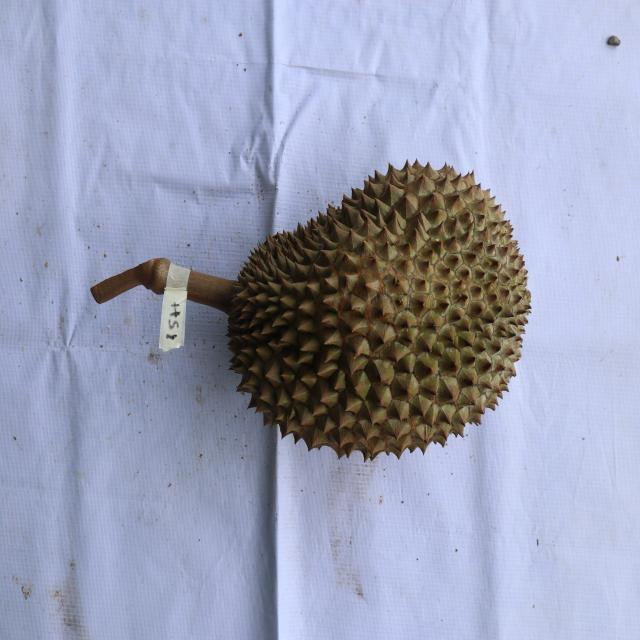mature: (226, 159, 533, 463)
